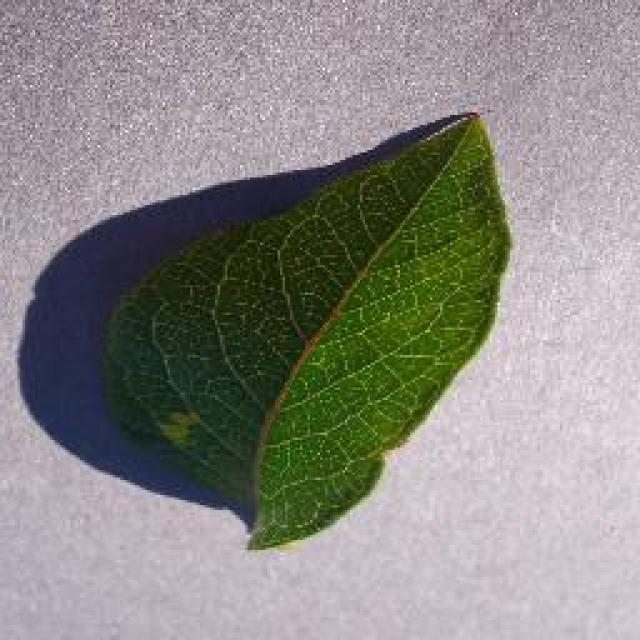Blu_healthy: (111, 195, 506, 489)
